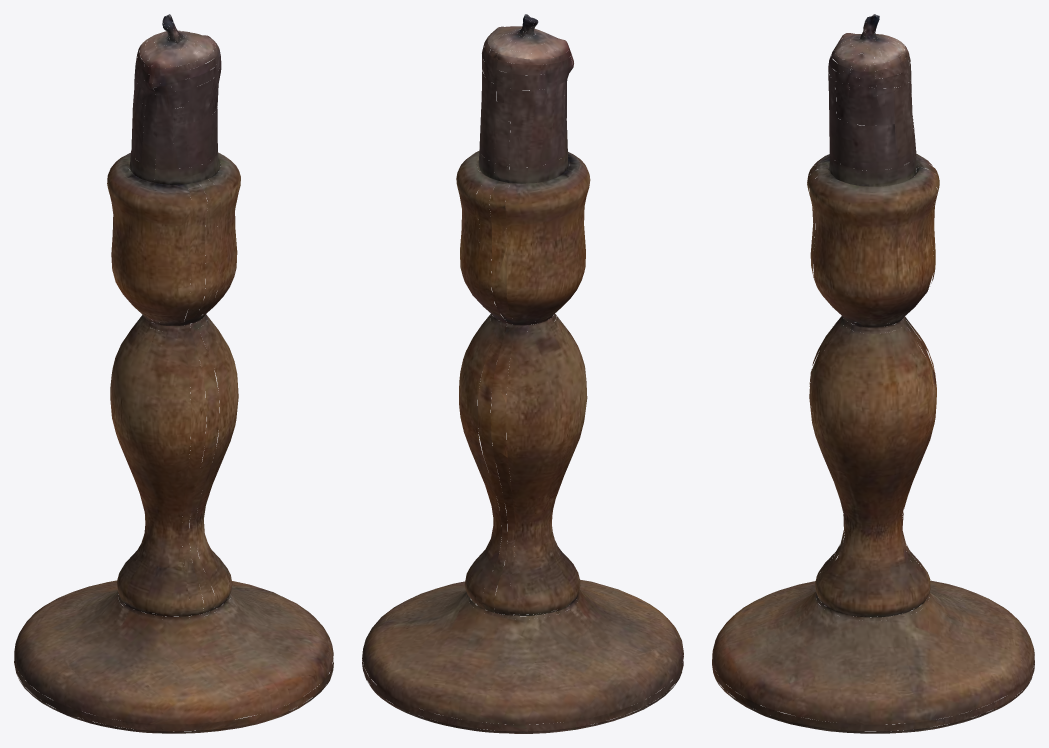
File: wooden_candlestick.glb
3 renders of one model, left to right at view 1: azimuth 30°, elevation 25°; view 2: azimuth 150°, elevation 25°; view 3: azimuth 270°, elevation 25°, orthographic.
Visible parts, largest first — view 1: wooden_candlestick; view 2: wooden_candlestick; view 3: wooden_candlestick.
Boxes of the visible parts, x1,y1,x2,y2 form: wooden_candlestick: (14,14,333,733); wooden_candlestick: (362,14,683,733); wooden_candlestick: (712,14,1034,733).
Size of the model in its own units: 0.0972 by 0.2197 by 0.0987.
1 material, 1 textured.
